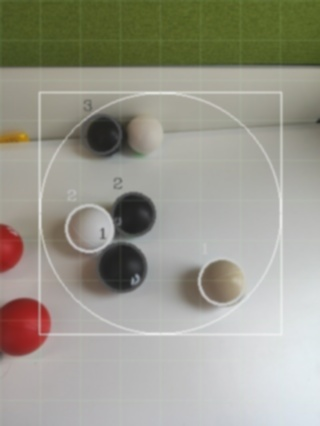Pelota blanca: (63, 201, 115, 254), (196, 257, 246, 307), (124, 113, 163, 155)
Pelota negra: (95, 241, 147, 294), (111, 190, 155, 238), (79, 113, 123, 158)
Pelota roja: (0, 297, 52, 357), (0, 222, 25, 275)
